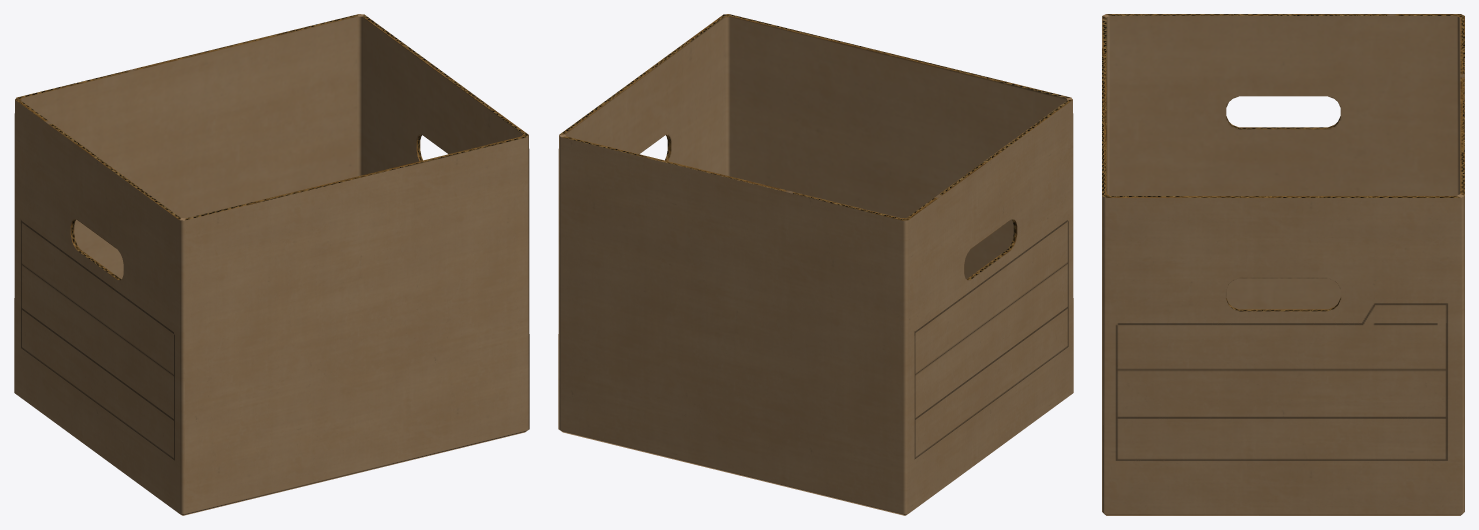
Rendered from SM_FilingBox_04.FBX.
The picture shows the model from 3 angles, left to right: view 1: azimuth 30°, elevation 25°; view 2: azimuth 150°, elevation 25°; view 3: azimuth 270°, elevation 25°; orthographic projection. The views are drawn at different scales.
Parts seen in each view (by area): view 1: FilingBox_04; view 2: FilingBox_04; view 3: FilingBox_04.
Part boxes in pixels (bbox=[...]): FilingBox_04: bbox=[14, 14, 529, 515]; FilingBox_04: bbox=[558, 14, 1073, 515]; FilingBox_04: bbox=[1102, 14, 1464, 515].
Size of the model in its own units: 30.03 by 24.38 by 25.04.
